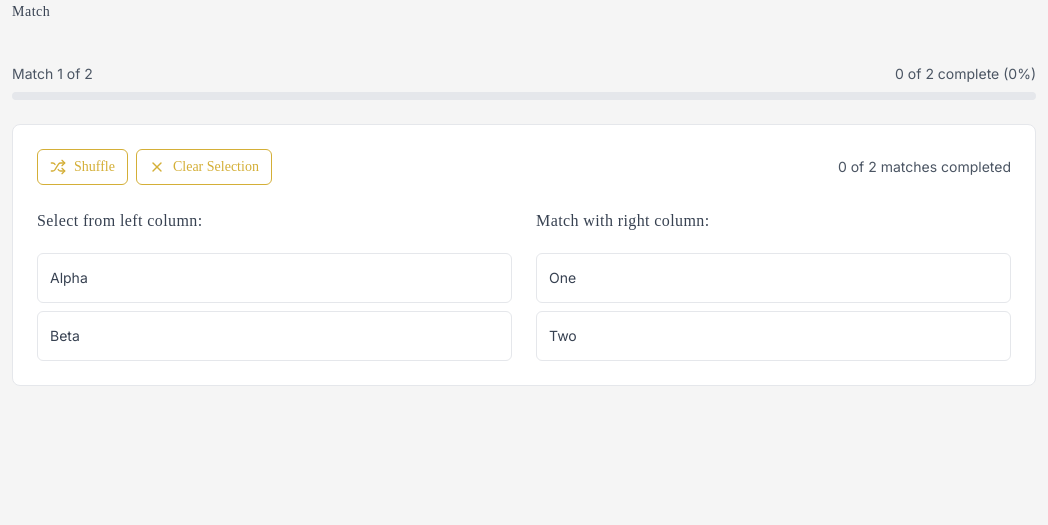
Scenario: exercise start over flow › completes a legacy matching exercise with an orphaned answer key
Expected: the text "0 of 2 matches completed" is shown, [838,157,1011,177]
What coordinates should you click on to do the following:
click the button "Alpha"
I would click on:
 (69, 278)
Its box is [37,253,512,303].
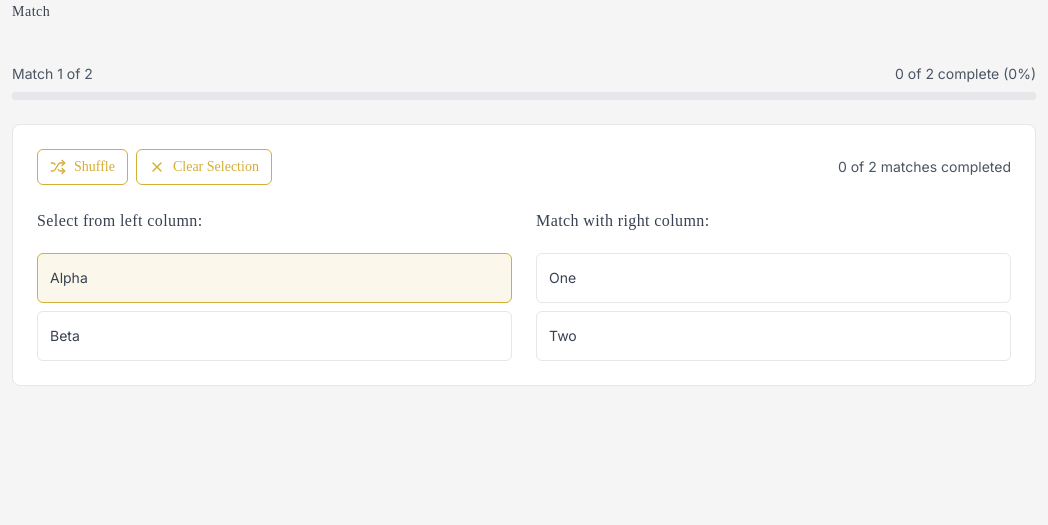
What coordinates should you click on to do the following:
click the button "One"
I would click on:
 (563, 278)
Its box is [536,253,1011,303].
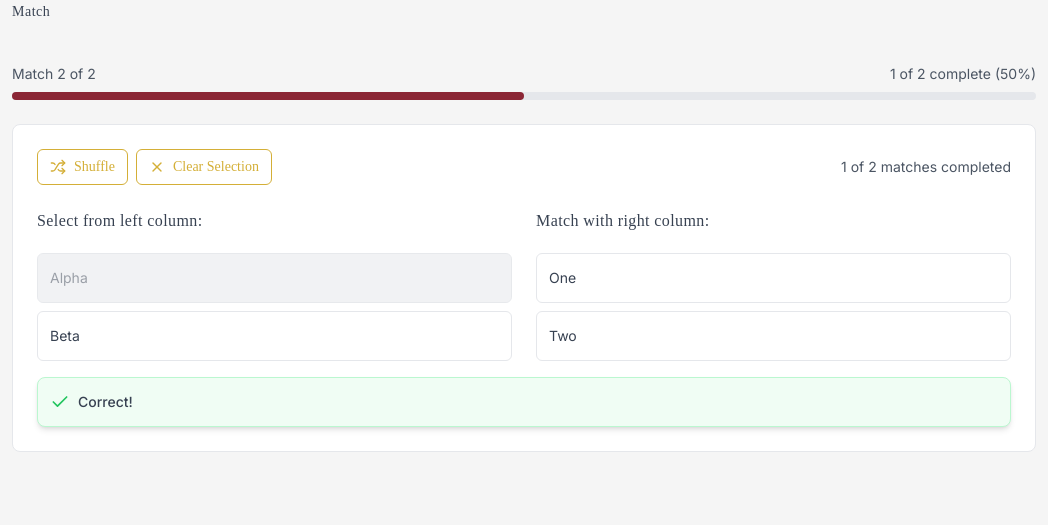
What coordinates should you click on to do the following:
click the button "Beta"
I would click on:
 (65, 336)
Its box is [37,311,512,361].
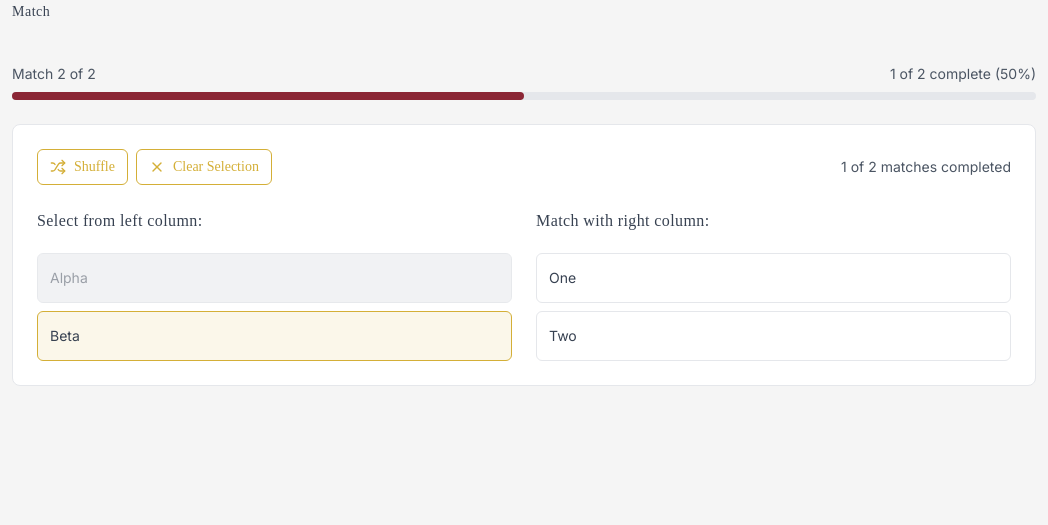
What coordinates should you click on to do the following:
click the button "Two"
I would click on:
 (563, 336)
Its box is [536,311,1011,361].
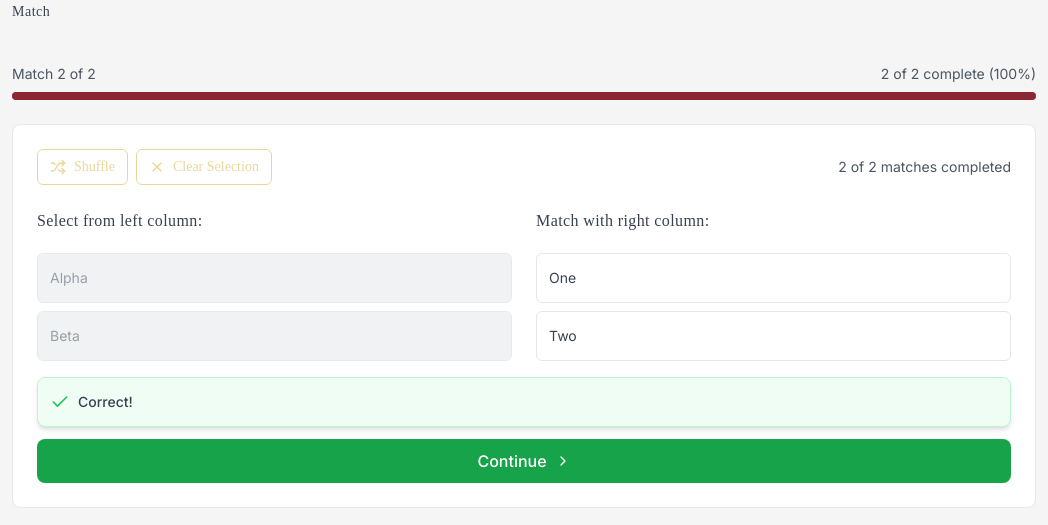
Now the text "2 of 2 matches completed" is shown, box [838,157,1011,177]
